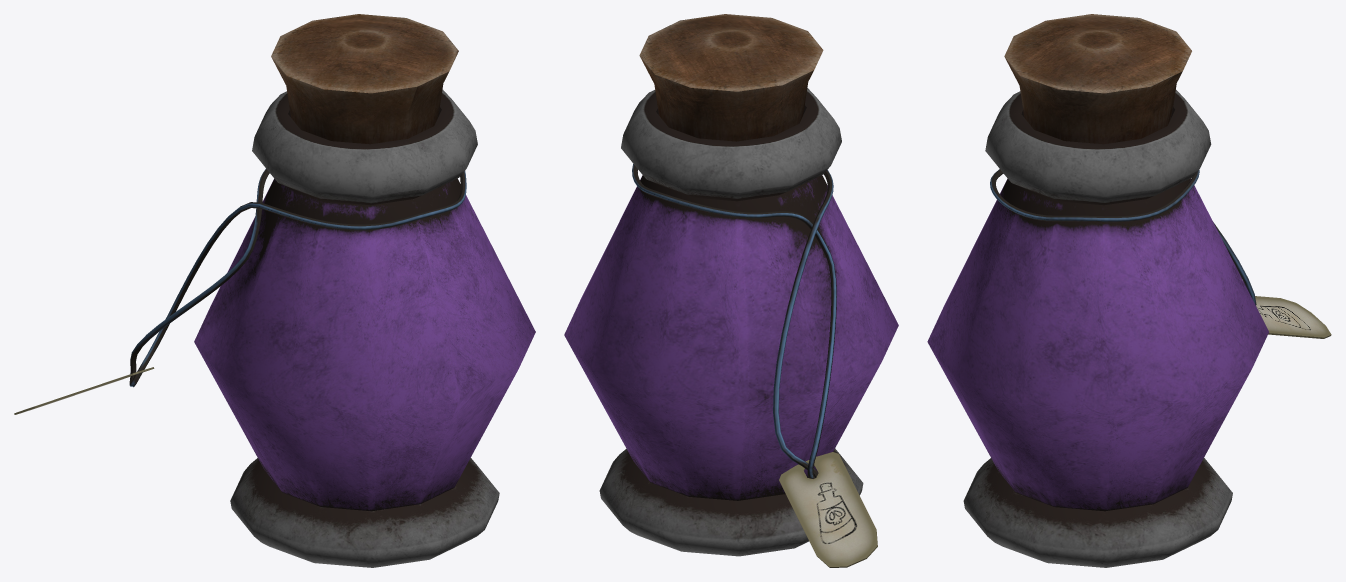
File: potion_flask.glb
The picture shows the model from 3 angles, left to right: view 1: azimuth 30°, elevation 25°; view 2: azimuth 150°, elevation 25°; view 3: azimuth 270°, elevation 25°; orthographic projection. The views are drawn at different scales.
Parts seen in each view (by area): view 1: flask_0, rope_1; view 2: flask_0, label_2, rope_1; view 3: flask_0, label_2, rope_1.
Part boxes in pixels (x1=…): flask_0: x1=194, y1=14, x2=535, y2=567; rope_1: x1=129, y1=168, x2=466, y2=387; flask_0: x1=564, y1=14, x2=898, y2=556; label_2: x1=779, y1=452, x2=877, y2=567; rope_1: x1=632, y1=164, x2=836, y2=478; flask_0: x1=927, y1=14, x2=1268, y2=567; label_2: x1=1255, y1=296, x2=1331, y2=338; rope_1: x1=990, y1=169, x2=1256, y2=305.
Size of the model in its own units: 2.28 by 2.63 by 2.01.
1 material, 1 textured.
